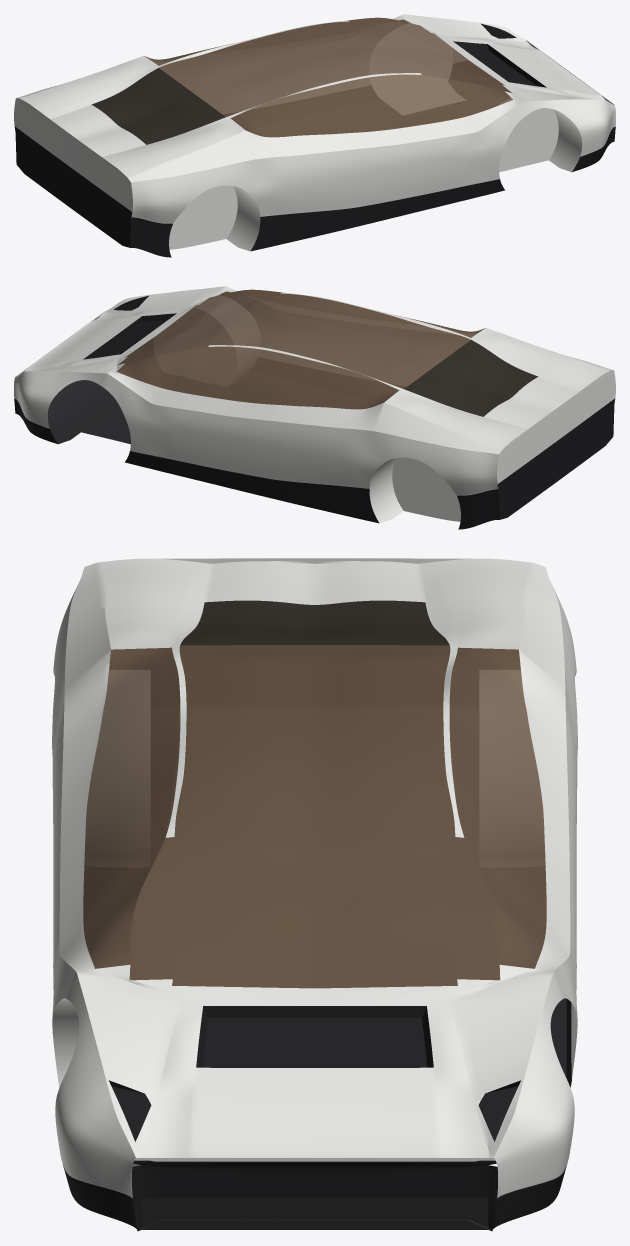
The model's file is SM_Roadster_Body.fbx.
The picture shows the model from 3 angles, top to bottom: view 1: azimuth 30°, elevation 25°; view 2: azimuth 150°, elevation 25°; view 3: azimuth 270°, elevation 25°; orthographic projection. The views are drawn at different scales.
Parts seen in each view (by area): view 1: Roadster_Body; view 2: Roadster_Body; view 3: Roadster_Body.
Boxes of the visible parts, x1,y1,x2,y2 form: Roadster_Body: [14, 14, 615, 257]; Roadster_Body: [14, 286, 615, 529]; Roadster_Body: [52, 558, 577, 1231].
Size of the model in its own units: 1.99 by 4.33 by 1.04.
